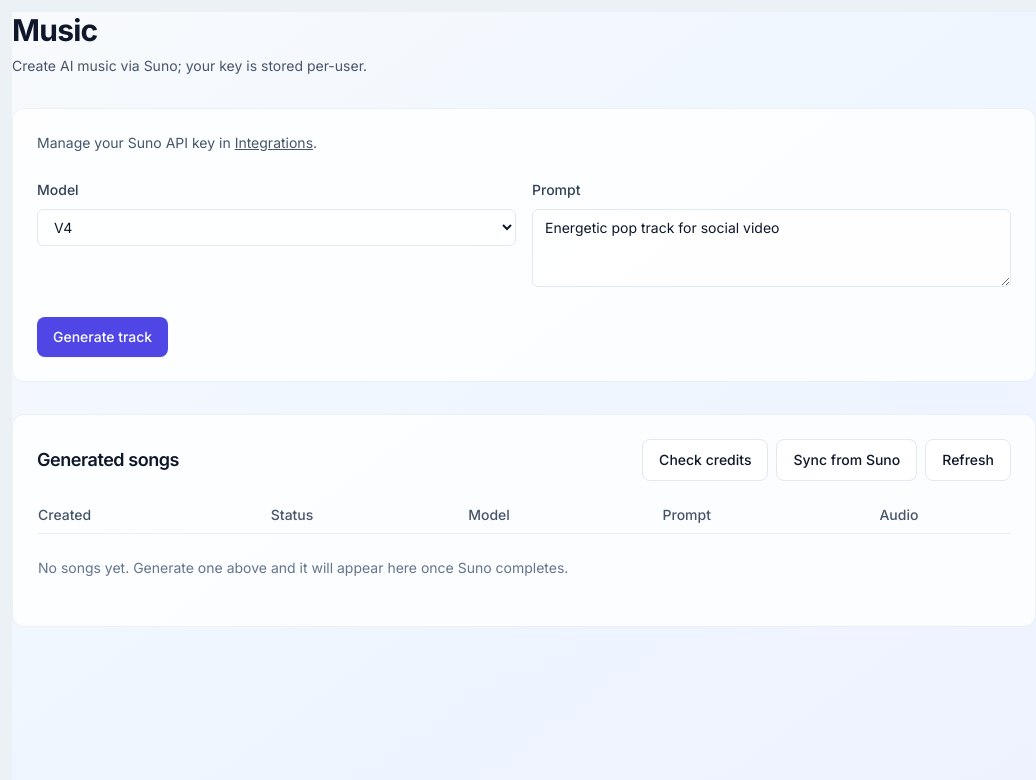
Scenario: ContentMusic › checks credits, syncs, and generates (happy path stubs)
Click the button "Check credits": coordinates (705, 460) [642,439,768,481]
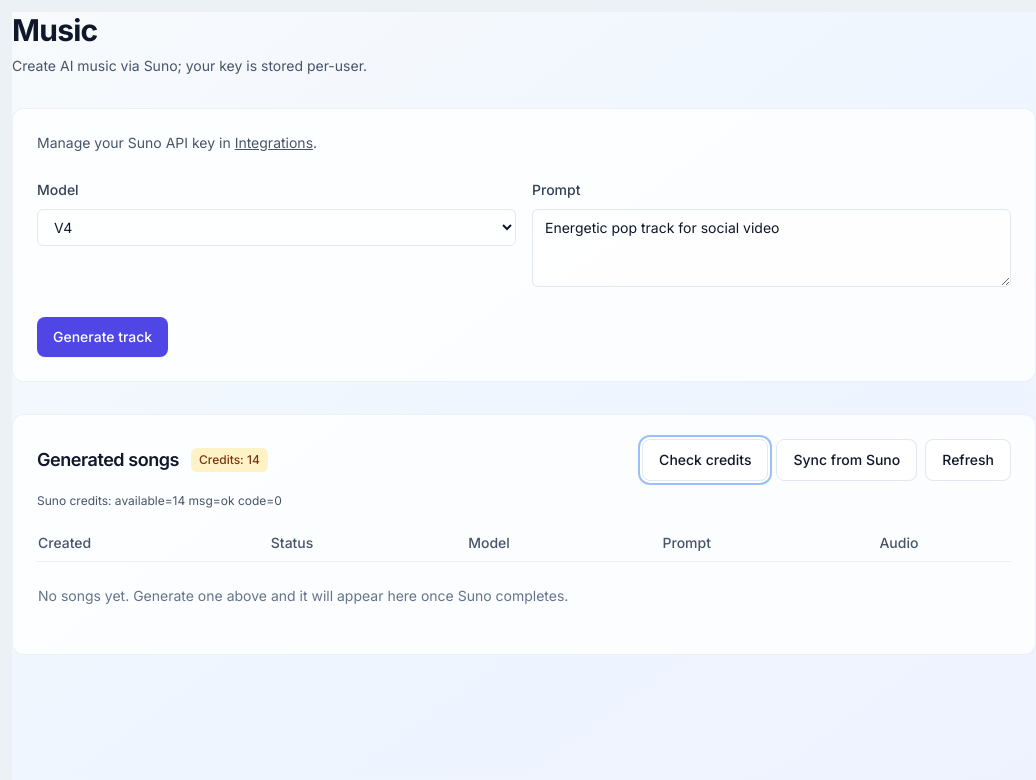
Check: the text "Suno credits: available=14 msg=ok code=0" is shown, box [37,493,282,508]
Click the button "Sync from Suno": coordinates (847, 460) [776,439,917,481]
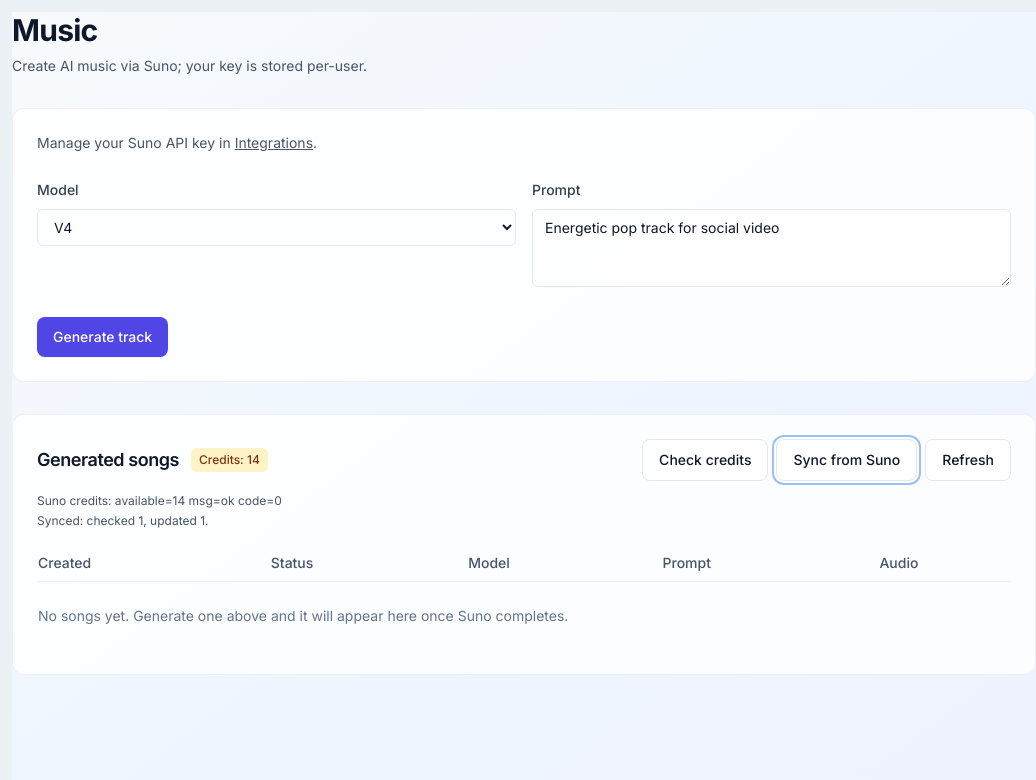
Check: the text "Synced: checked 1, updated 1." is shown, box [37,513,208,528]
Click the button "Generate track": coordinates (103, 337) [37,317,168,357]
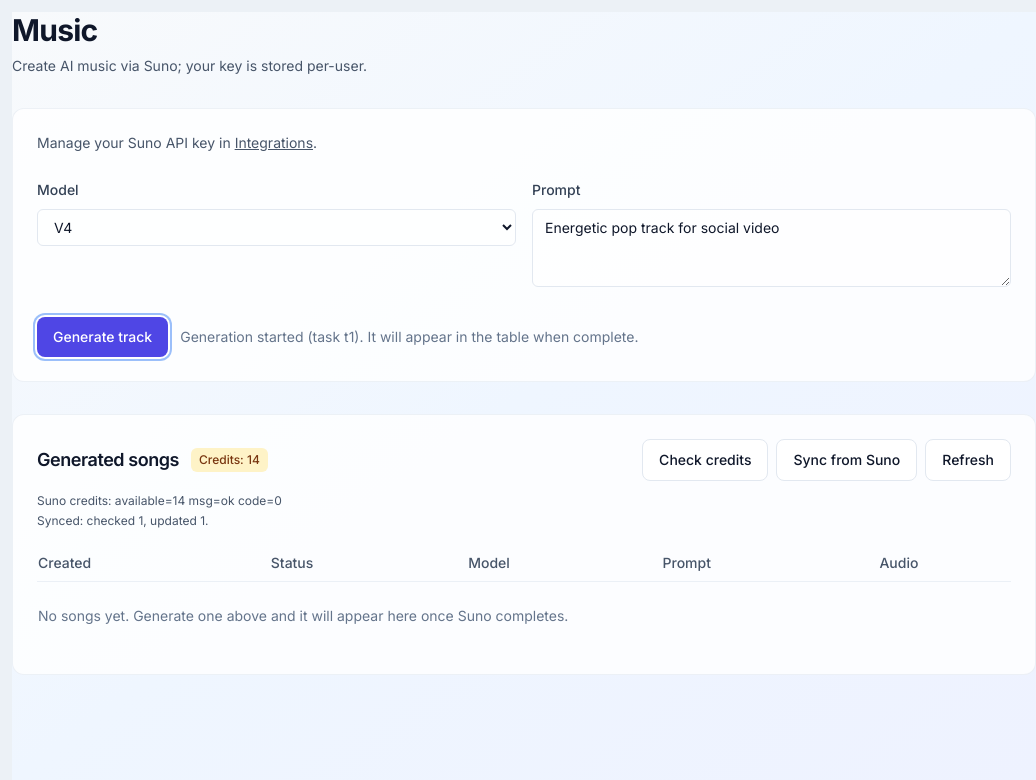
Check: the text "Generation started" is shown, box [180,328,638,345]
